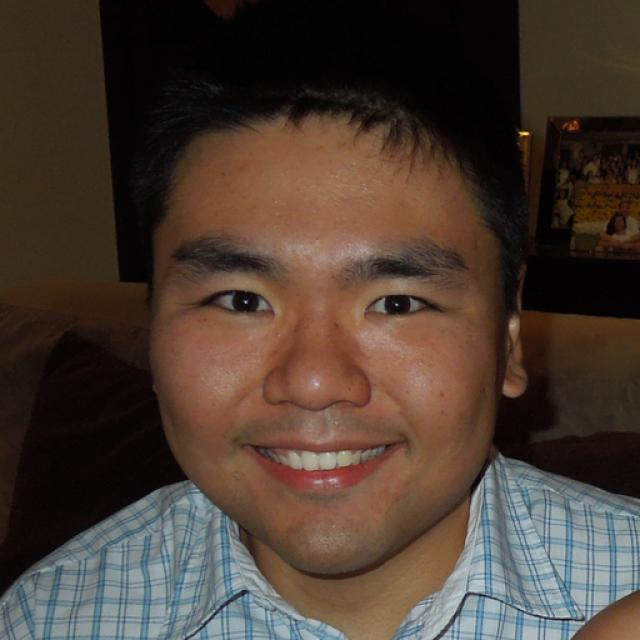happy: (149, 110, 502, 577)
